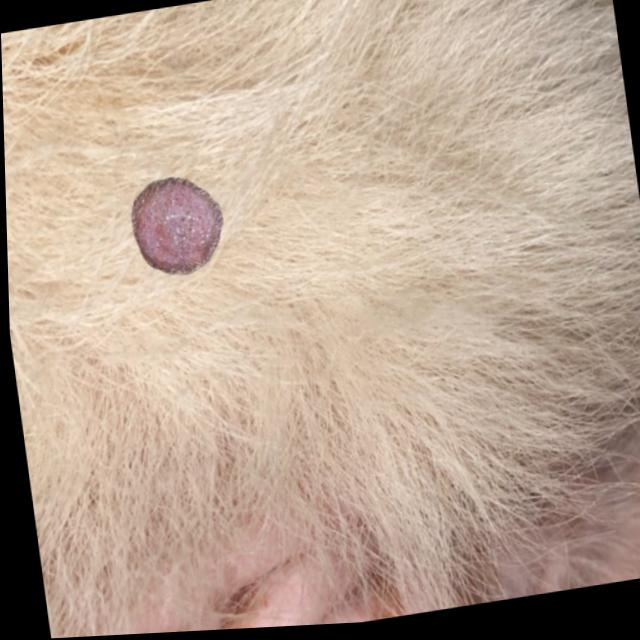ringworm: (72, 115, 266, 319)
